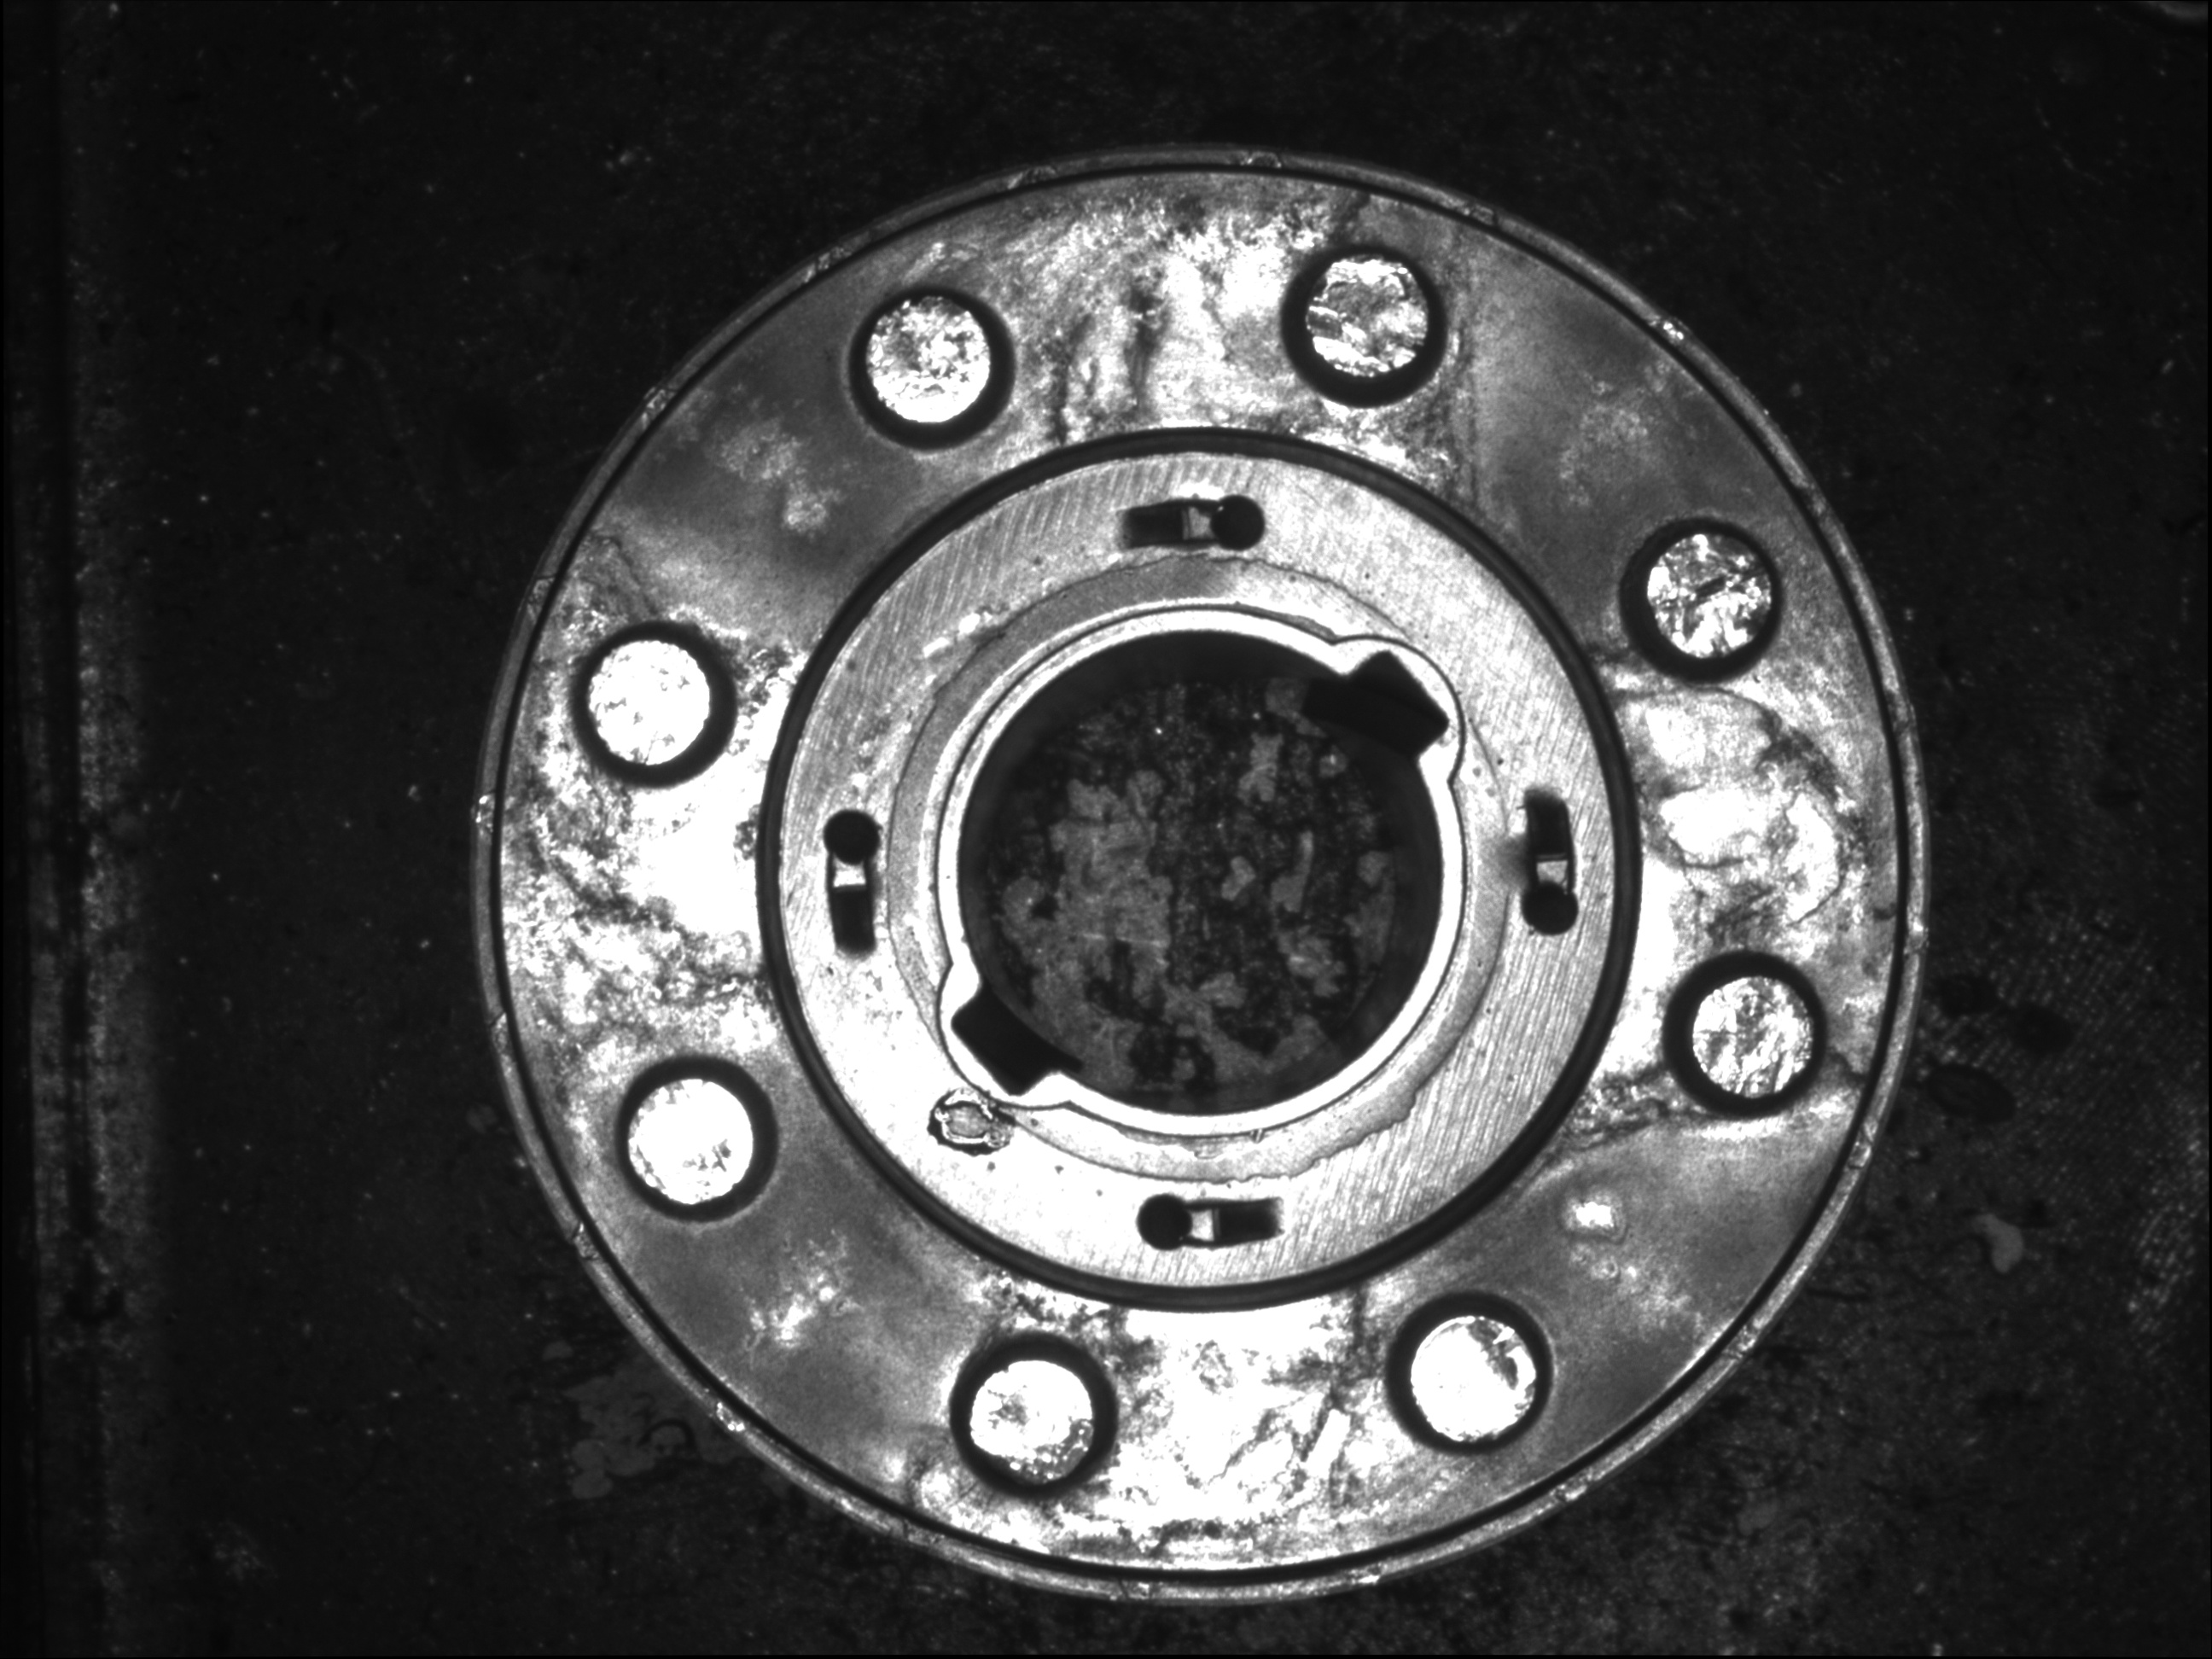tail: (1301, 579, 1475, 814), (920, 904, 1094, 1138)
